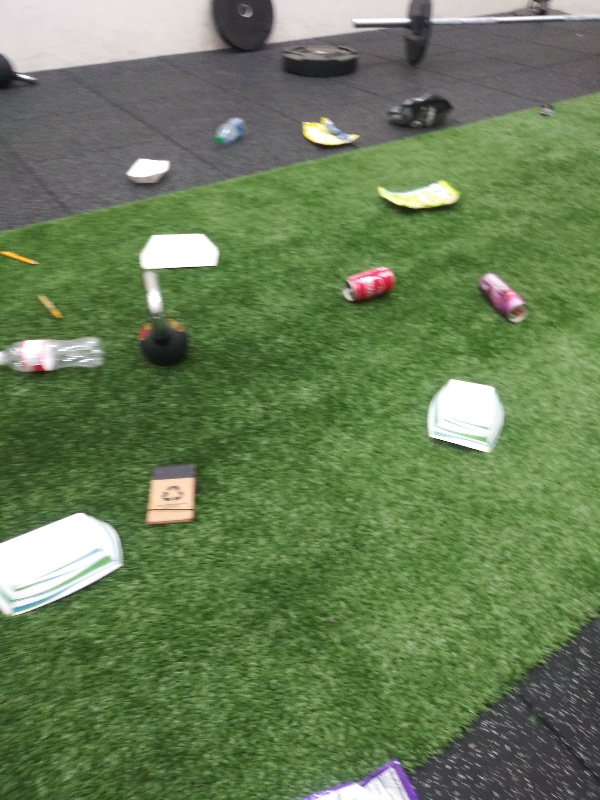bag: (293, 754, 434, 800), (372, 173, 466, 212), (300, 114, 362, 150)
bottle: (1, 331, 113, 377), (212, 112, 253, 149)
can: (475, 270, 531, 329), (340, 261, 398, 306)
plate: (1, 511, 124, 621), (421, 377, 510, 461), (135, 231, 223, 277), (122, 154, 177, 189)
